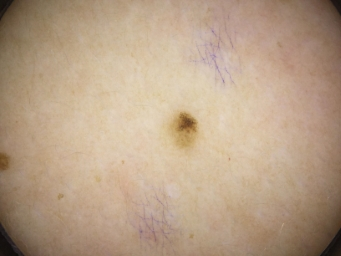melanoma: (174, 112, 198, 136)
